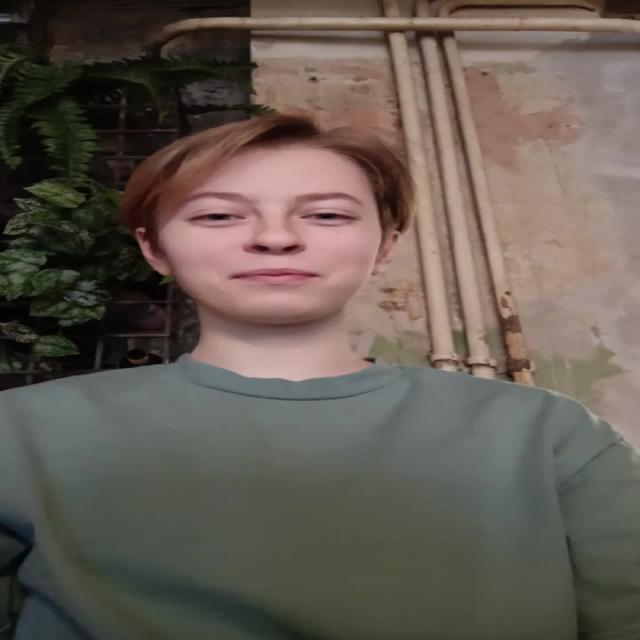earlobe: (134, 227, 174, 276), (369, 230, 401, 275)
